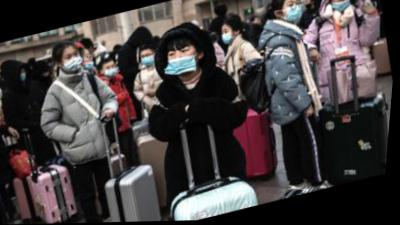OK: (60, 48, 87, 75), (282, 1, 306, 26), (220, 27, 238, 49), (139, 51, 158, 70), (104, 63, 120, 79), (18, 68, 31, 83)
WRONG: (166, 44, 204, 80), (80, 50, 99, 73), (329, 1, 354, 13)
